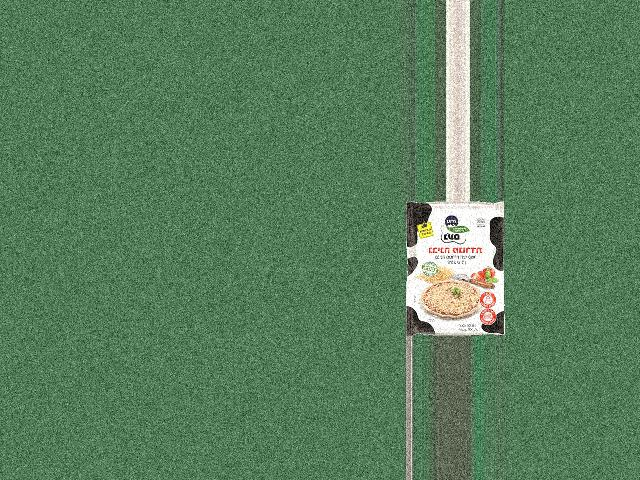cheese: (403, 211, 521, 329)
